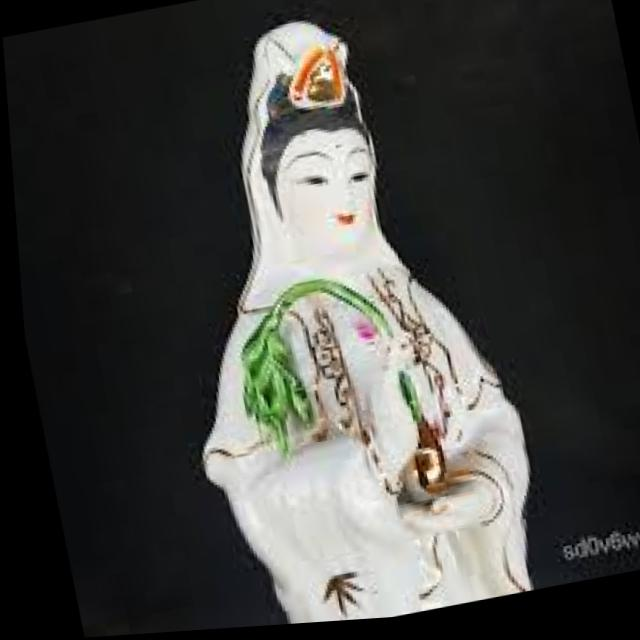Guan Yin: (192, 3, 478, 528)
